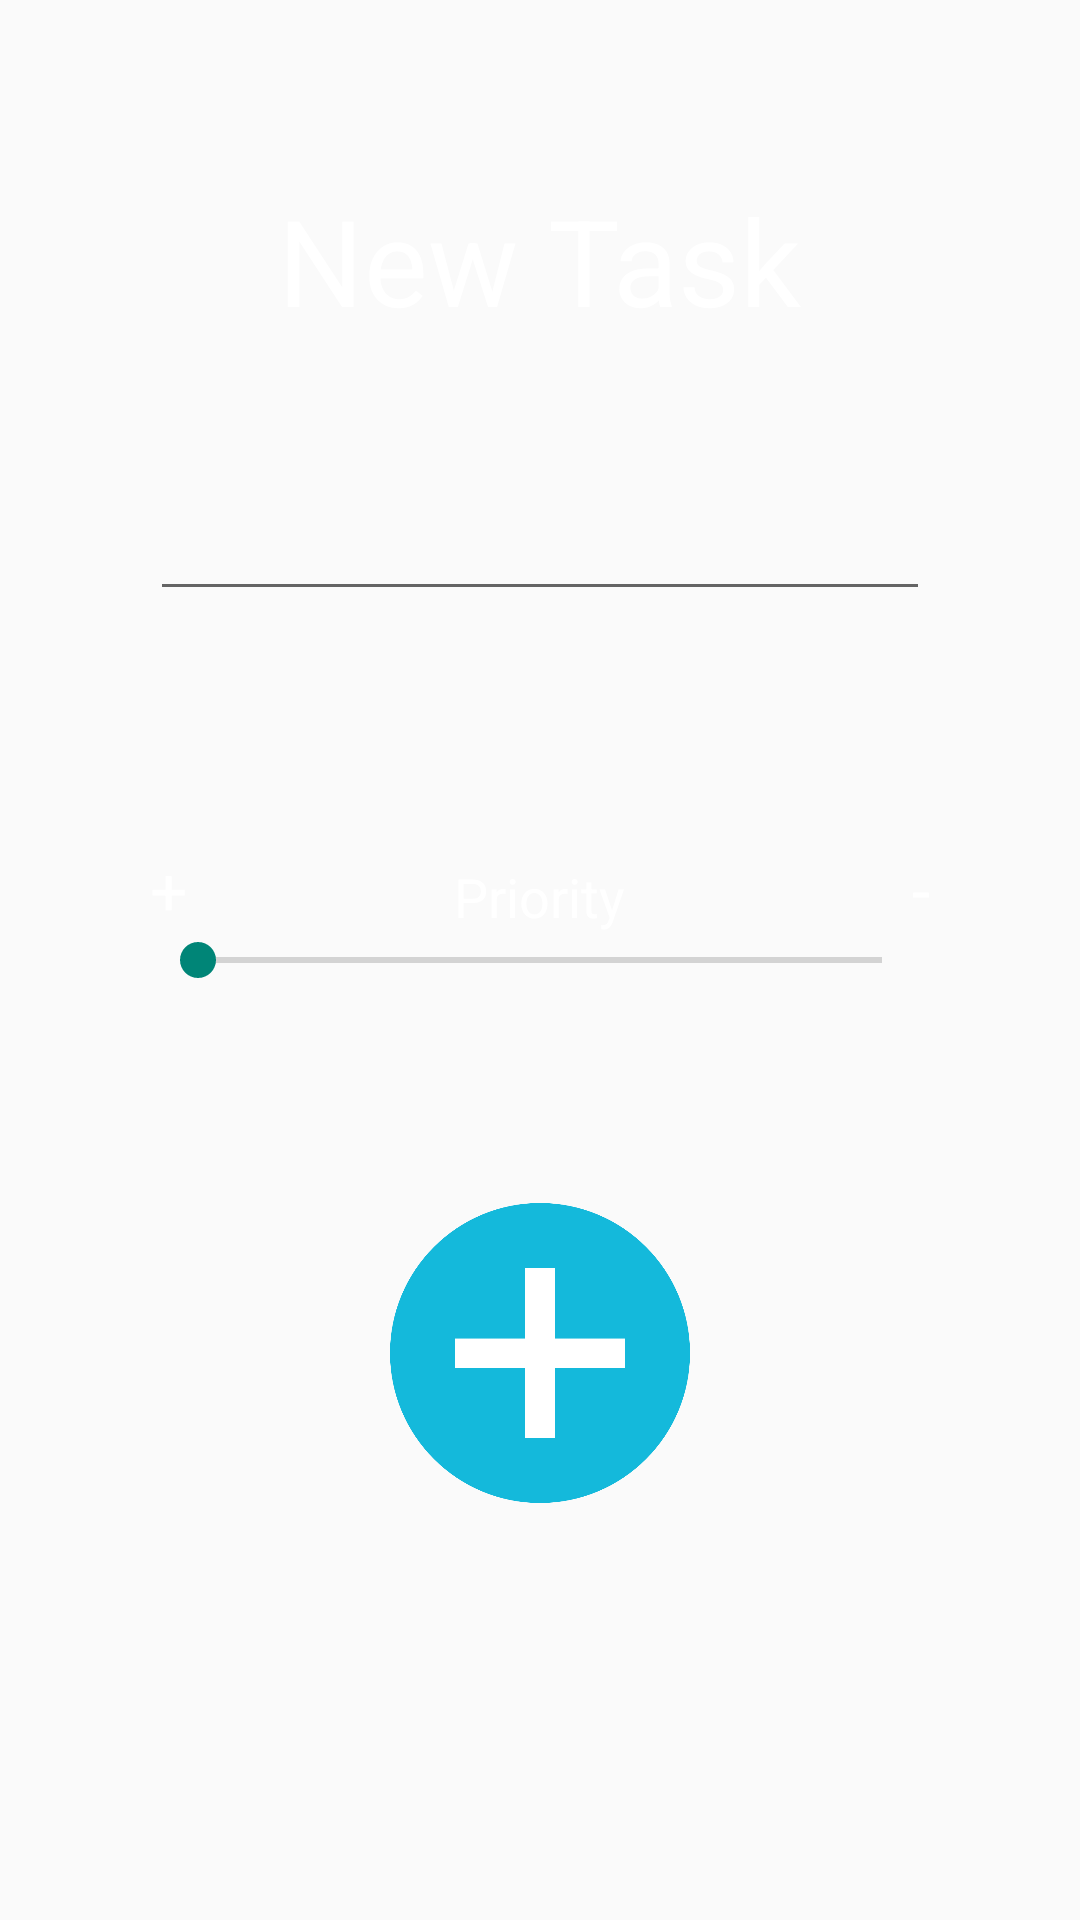

Where to tap for icons on this 1080 × 1920 app screen, as [x,y]:
add circle: [540,1353]
